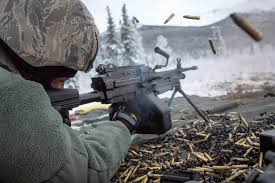gun: (43, 45, 199, 121)
